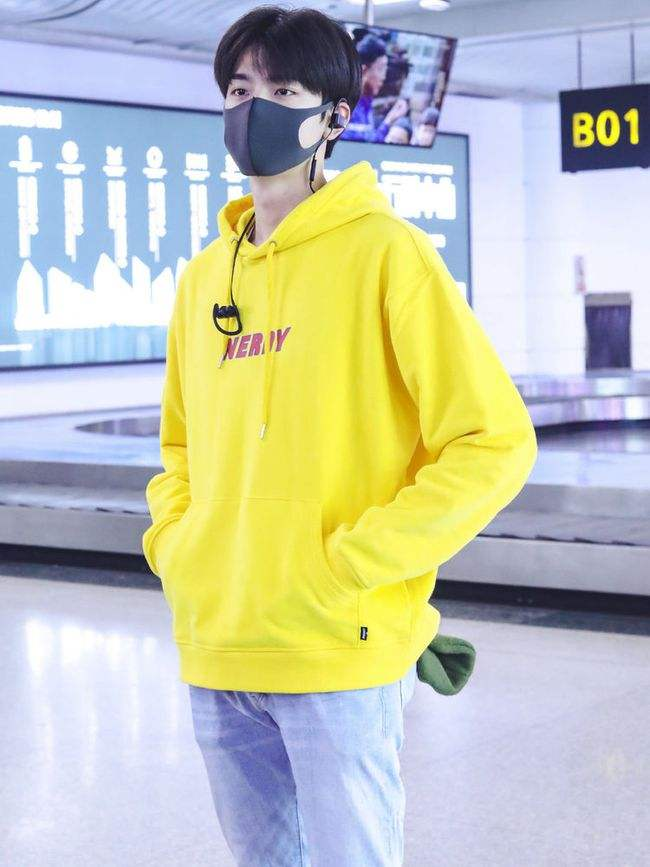person: (127, 26, 509, 771)
